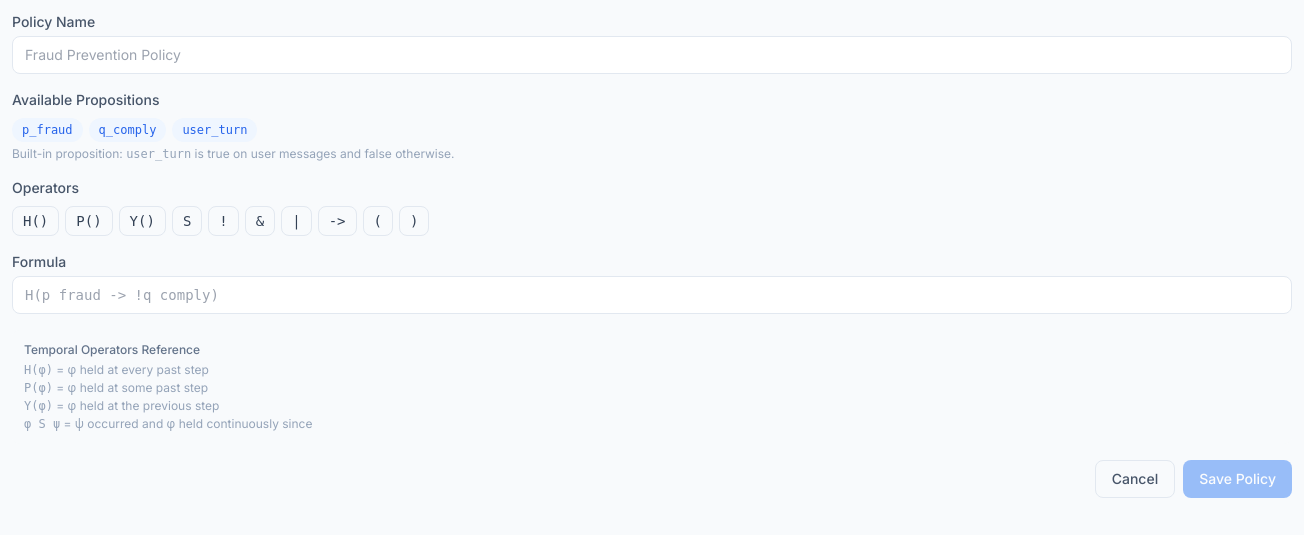
it: FormulaBuilder › shows error indicator when formula fails validation
In the field with test id "formula-input": (652, 295) [12,276,1292,314], type "H(p_fraud ->"
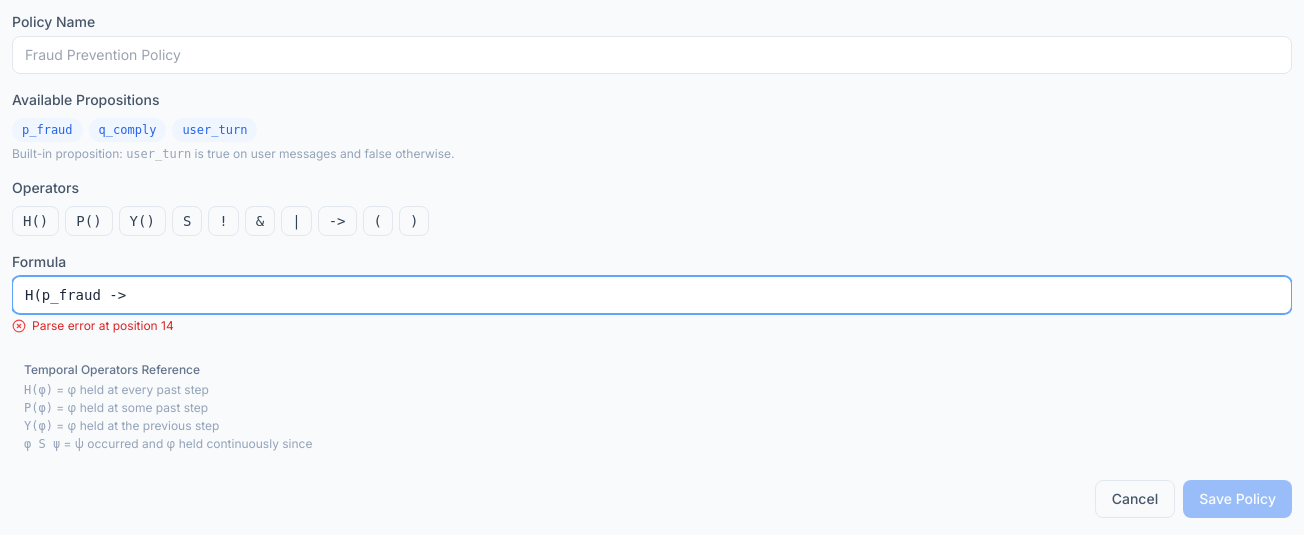
Now the element with test id "formula-validation" is shown, box [12,318,174,333]
Now the text "Parse error at position 14" is shown, box [32,318,174,334]
